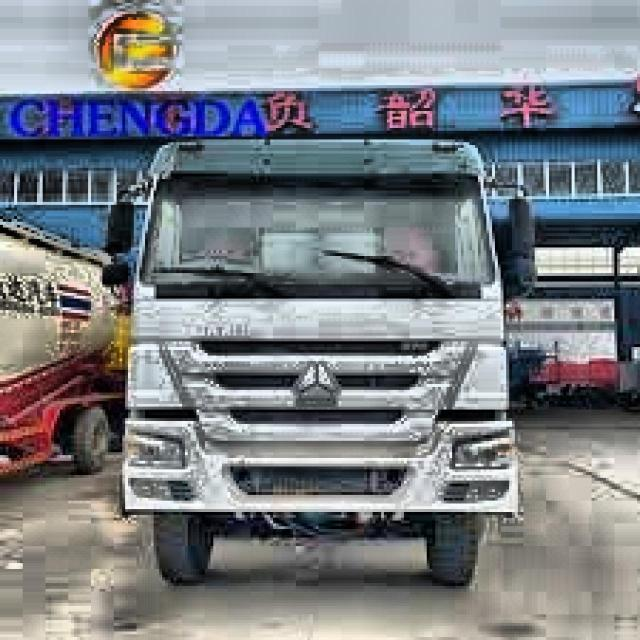dump_truck: (100, 110, 544, 611)
